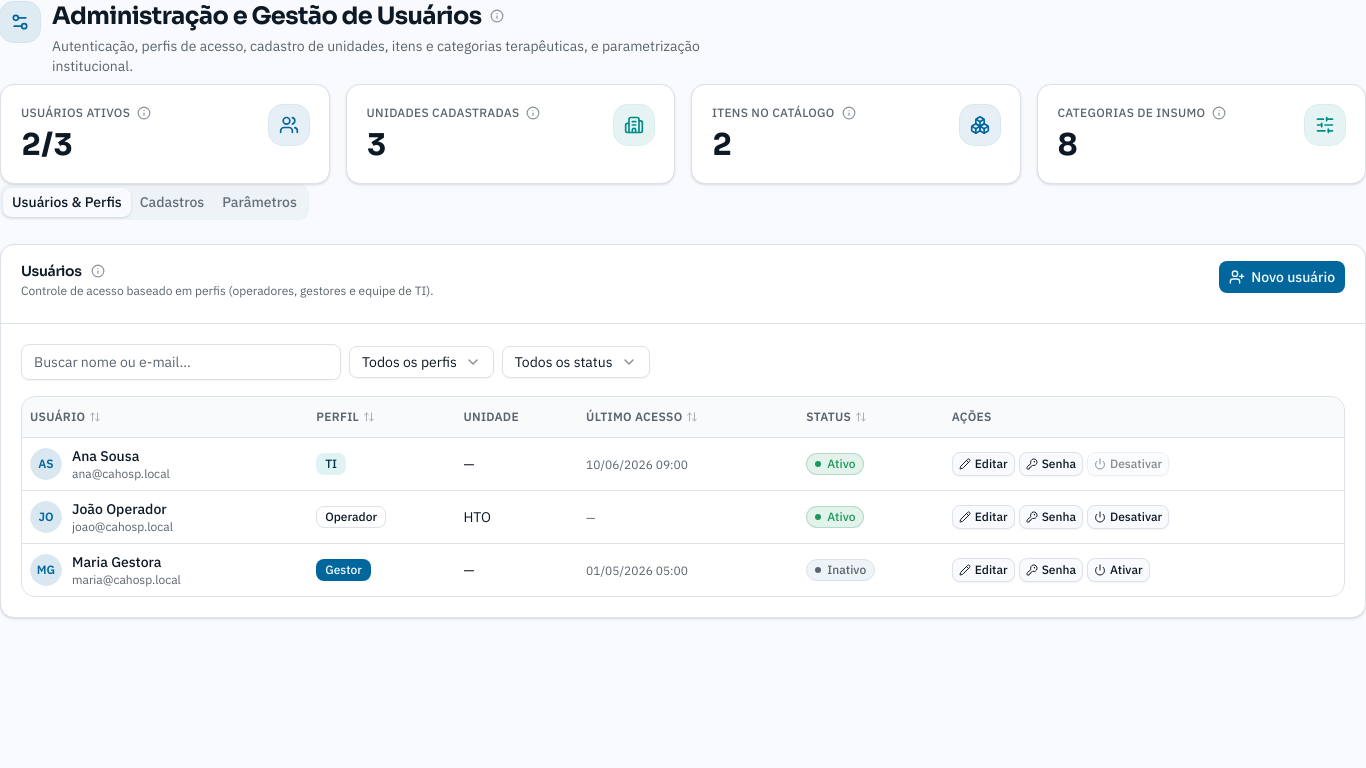
Test: AdminPage › valida o formulário (nome obrigatório)
Click the button "Novo usuário" at (1282, 277), box [1219,261,1345,293]
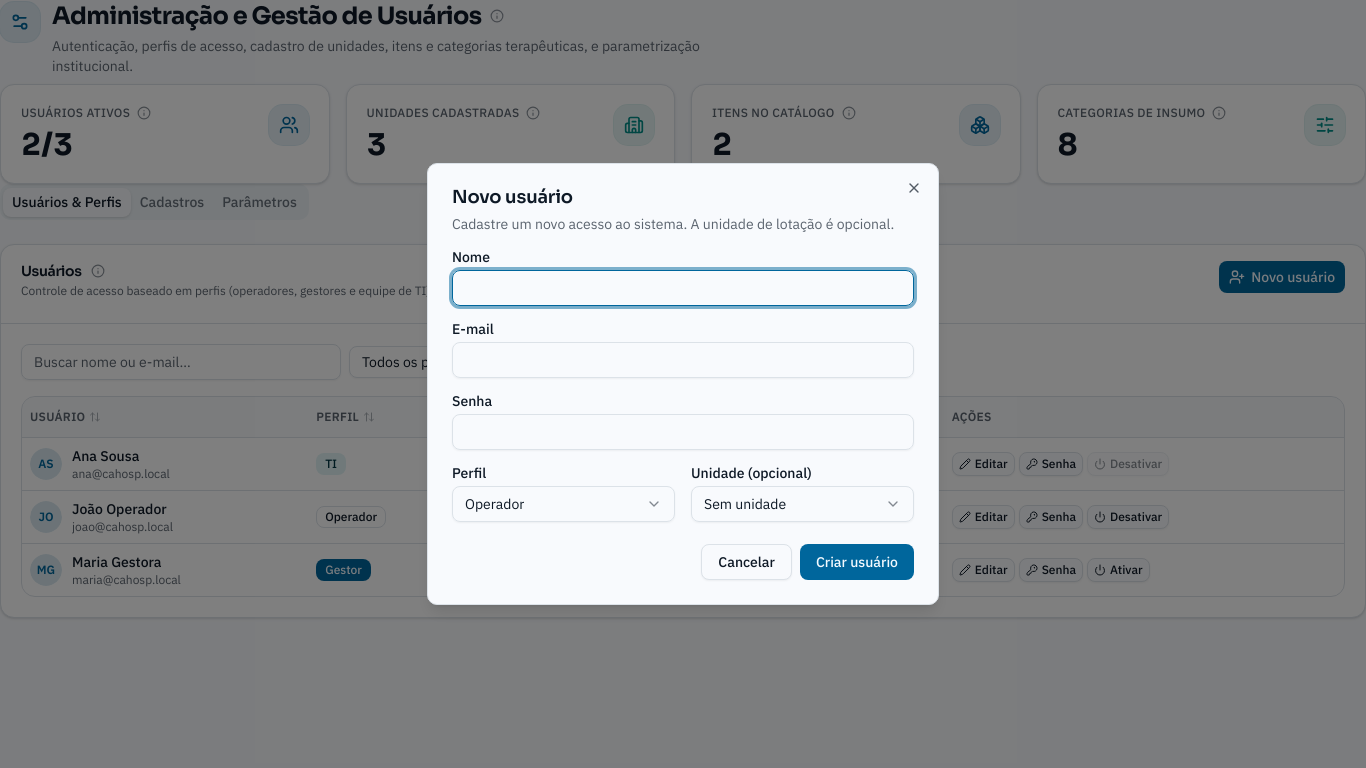
Click the button "Criar usuário" at (857, 562), box [800,544,914,580]
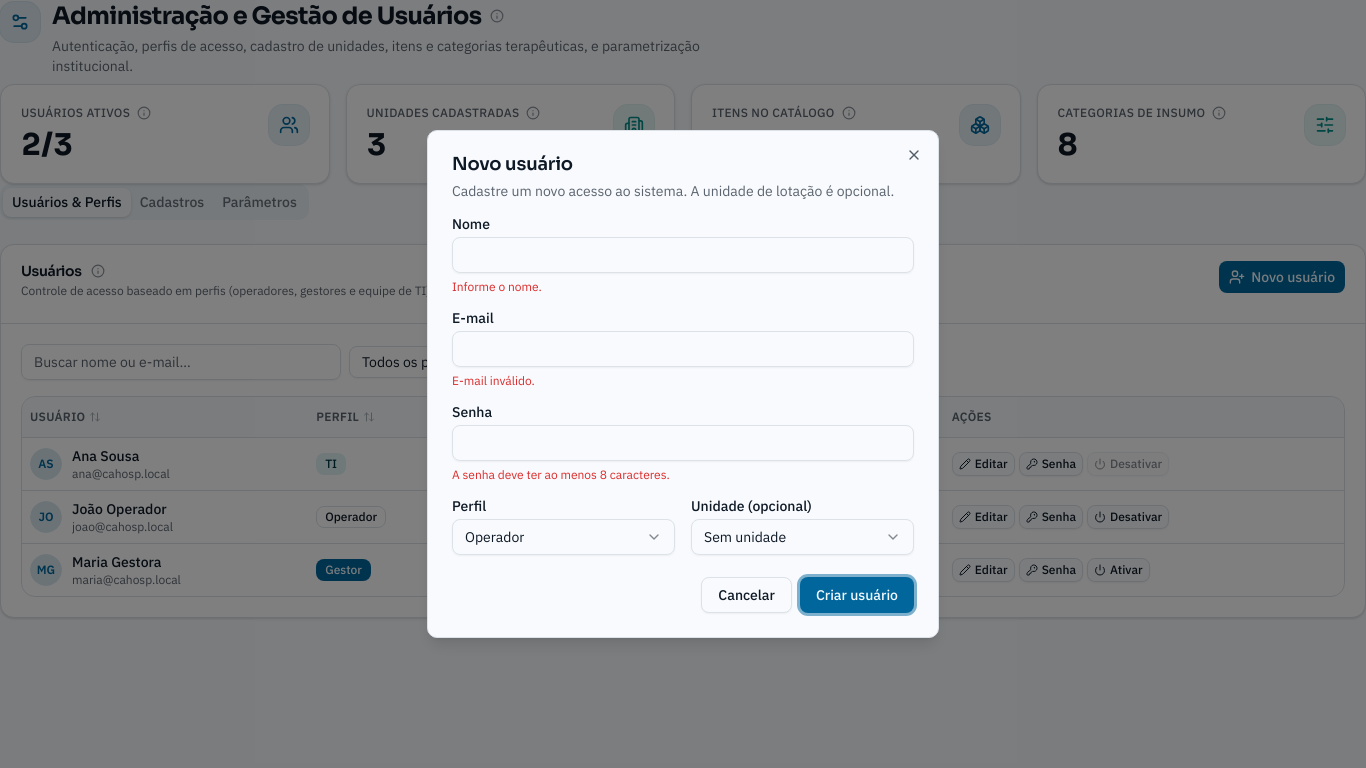
Expected: the text "Informe o nome." is shown, [452,279,542,294]
